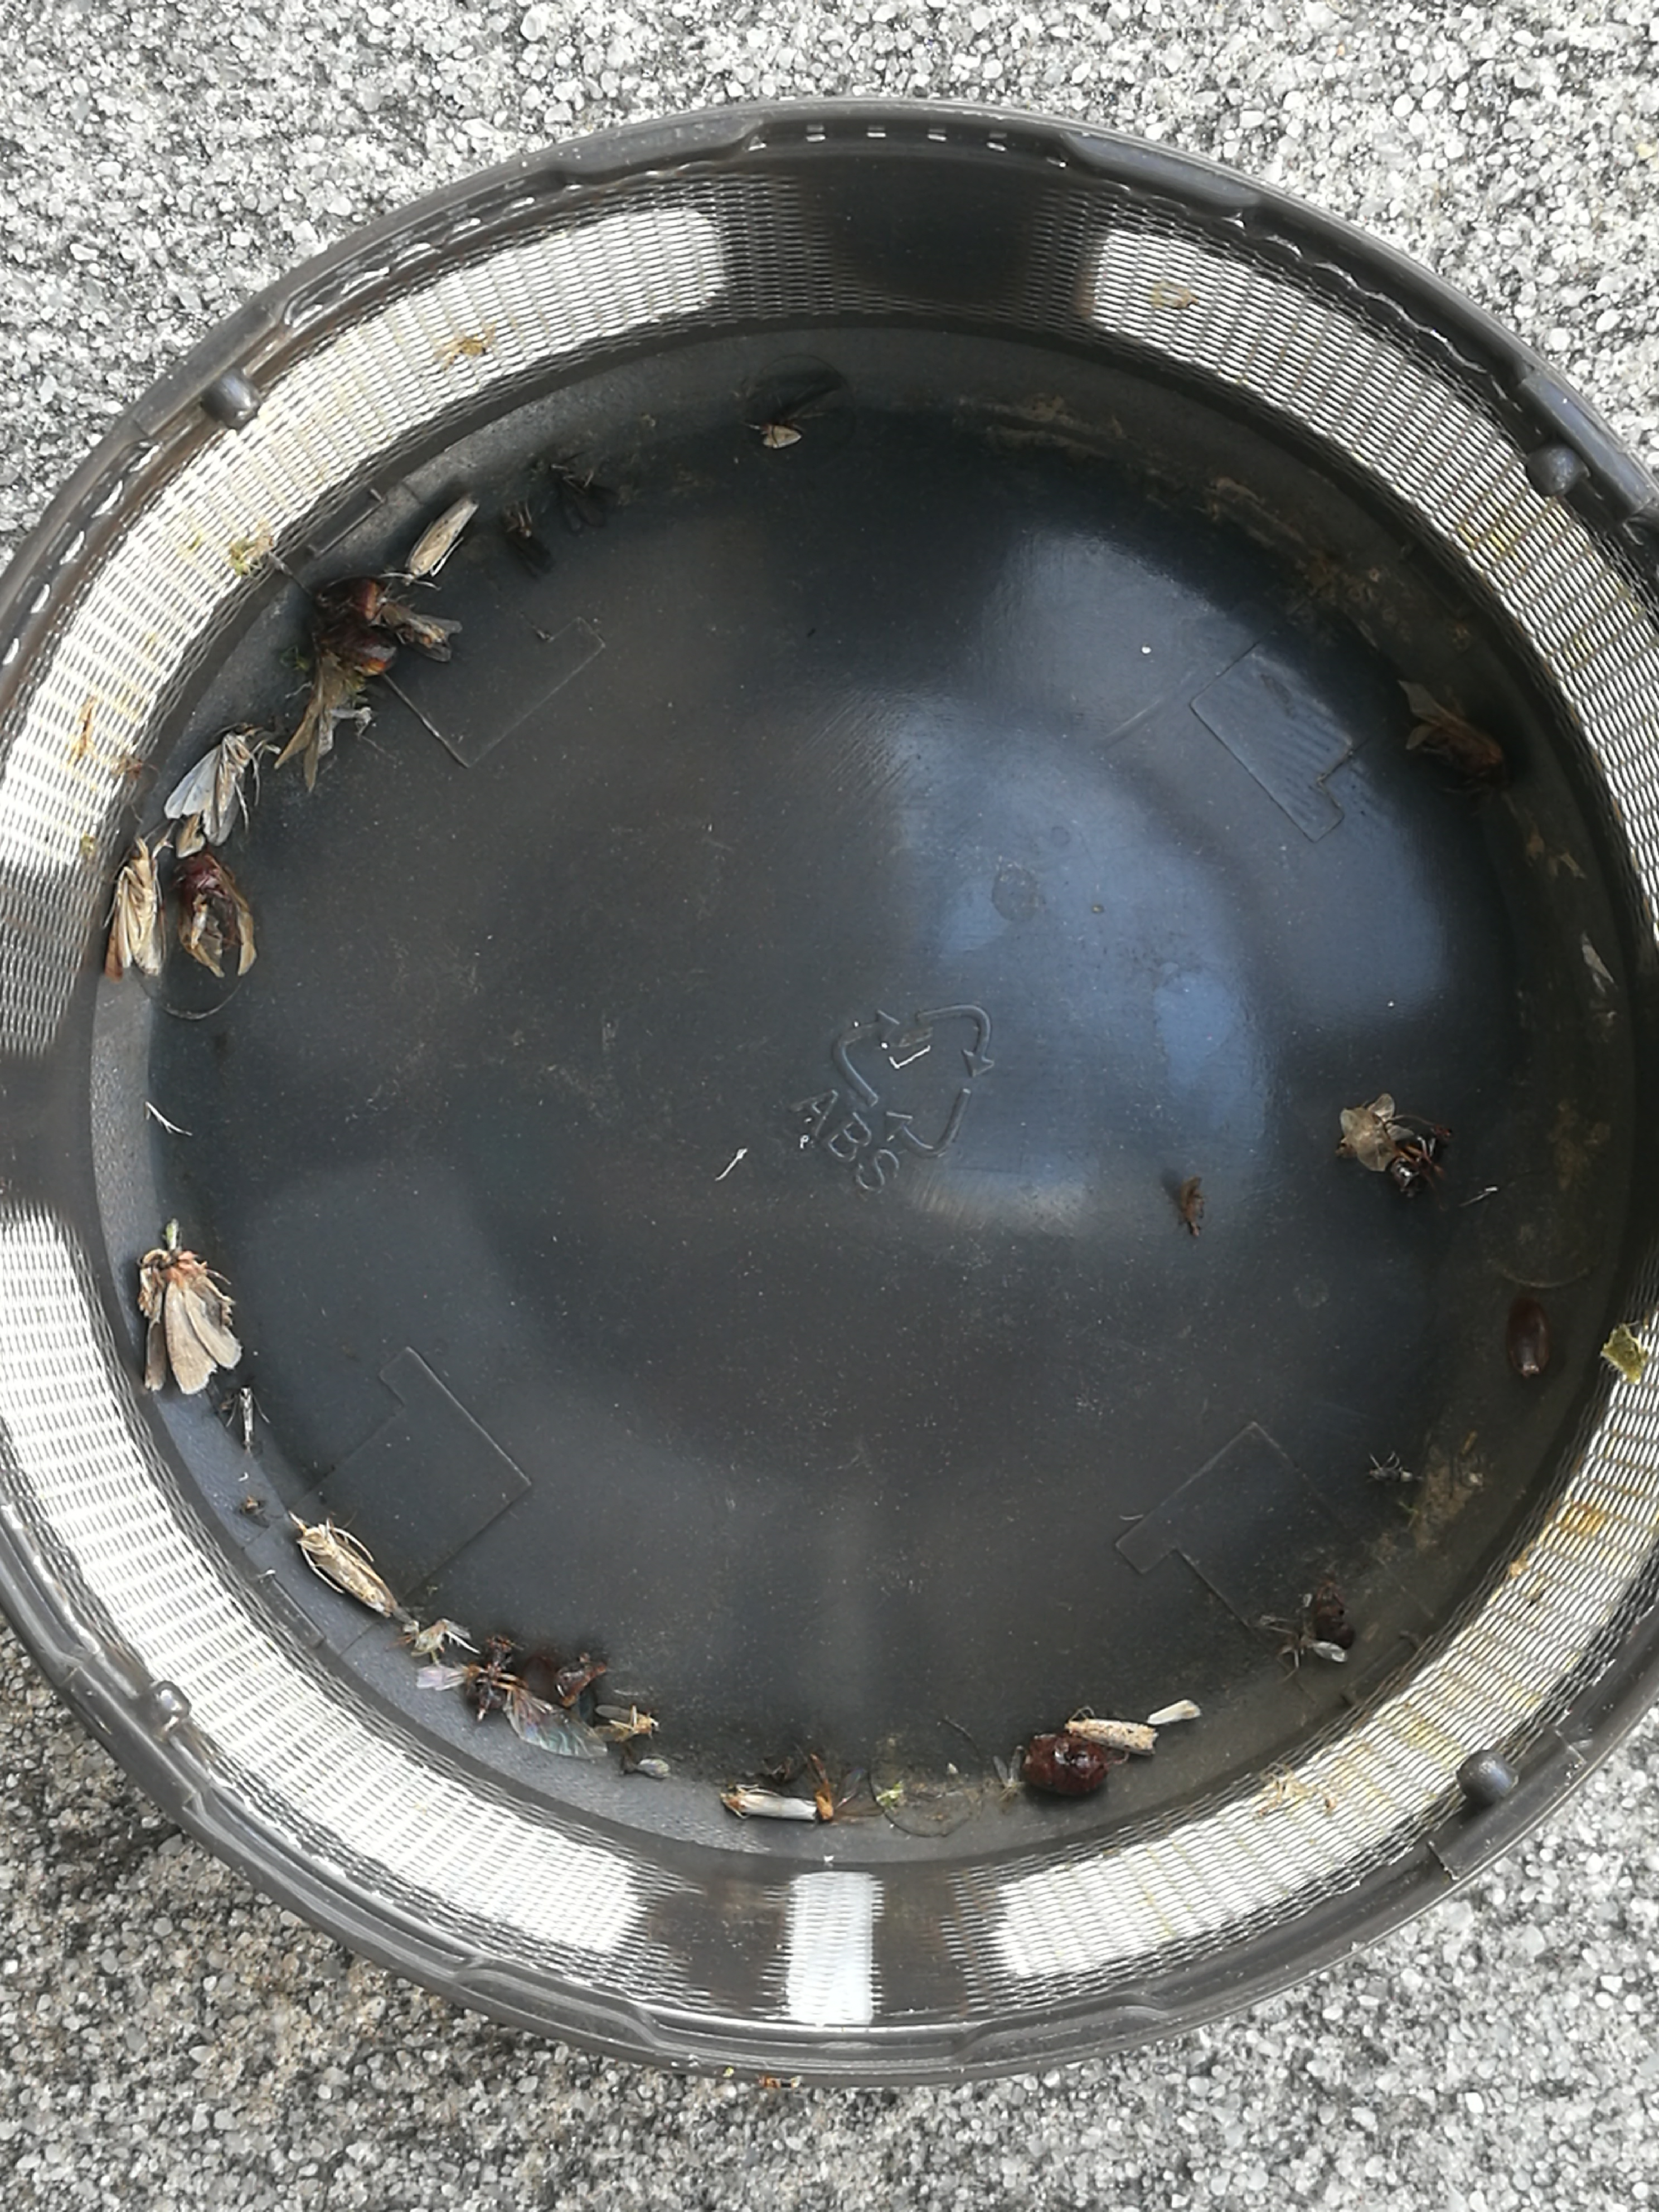beetle: (312, 582, 394, 678), (1028, 1733, 1107, 1794), (469, 1641, 512, 1716)
mosquito: (286, 1510, 399, 1616), (277, 655, 333, 794), (401, 496, 477, 583), (1063, 1721, 1157, 1756), (723, 1797, 819, 1820)
moth: (138, 1221, 242, 1393), (164, 721, 258, 845), (106, 838, 164, 979), (385, 606, 462, 662), (552, 467, 619, 531)
